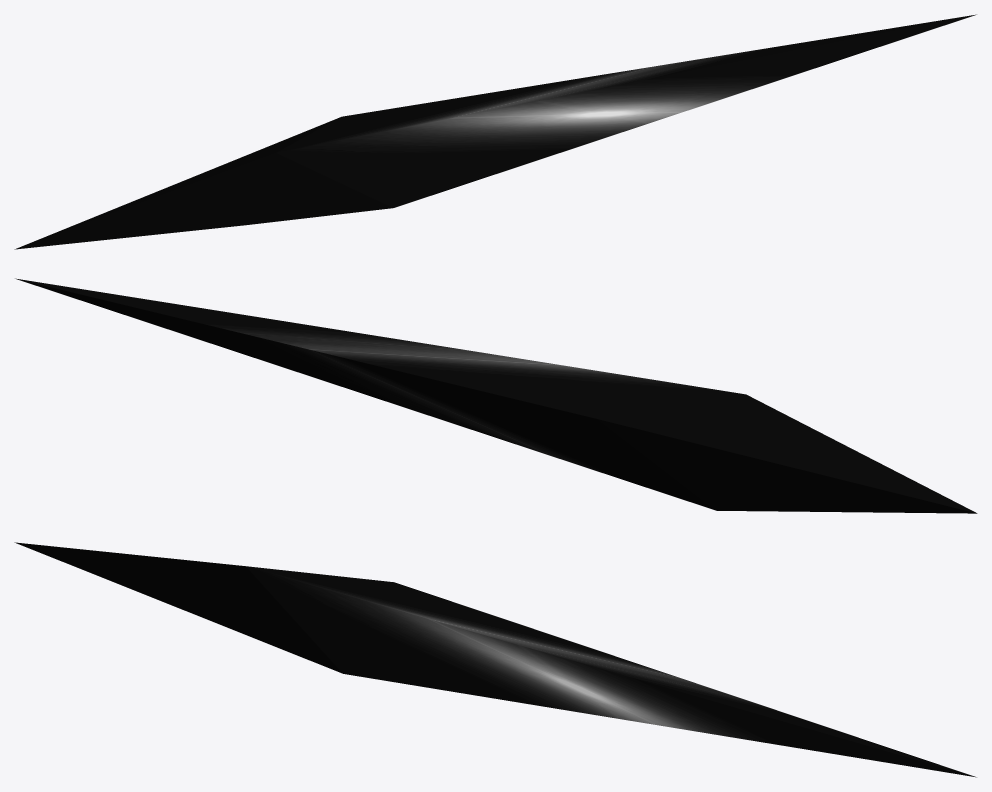
The model's file is 0236_bingzhui.glb.
3 views of the same model, one above another, from view 1: azimuth 30°, elevation 25°; view 2: azimuth 150°, elevation 25°; view 3: azimuth 330°, elevation 25° (orthographic).
Bounding box in the file's own units: 2.2 × 0.2056 × 0.2037.
1 material, 1 textured.
